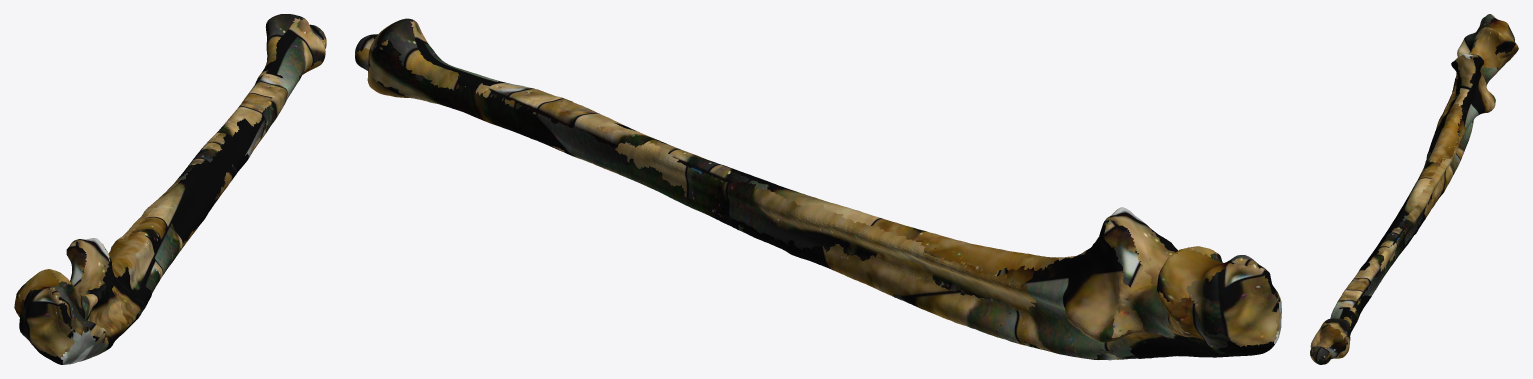
File: right_ulna.glb
The picture shows the model from 3 angles, left to right: view 1: azimuth 90°, elevation 25°; view 2: azimuth 150°, elevation 25°; view 3: azimuth 270°, elevation 25°; orthographic projection. The views are drawn at different scales.
Visible parts, largest first — view 1: Node; view 2: Node; view 3: Node.
Part boxes in pixels (x1=…): Node: x1=14, y1=14, x2=326, y2=364; Node: x1=355, y1=18, x2=1281, y2=360; Node: x1=1310, y1=14, x2=1518, y2=364.
Size of the model in its own units: 142 by 25.37 by 47.22.
Materials: 1 (1 with a texture image).
